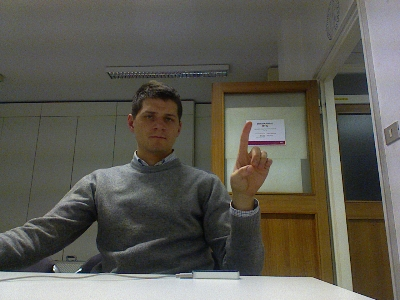食指: (228, 120, 273, 199)
